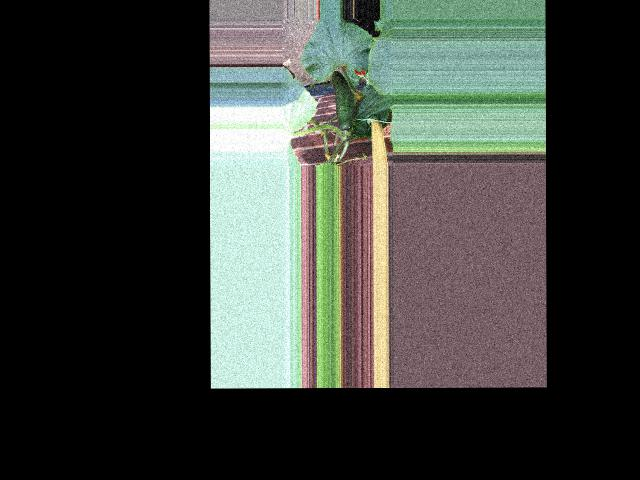cucumber: (330, 71, 354, 131)
